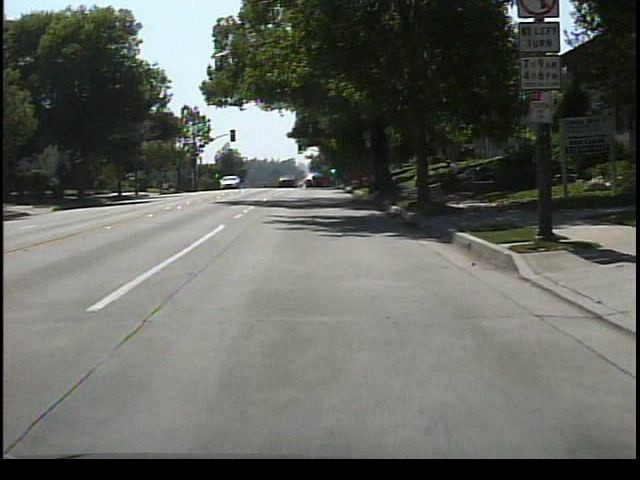person: (441, 156, 464, 195)
